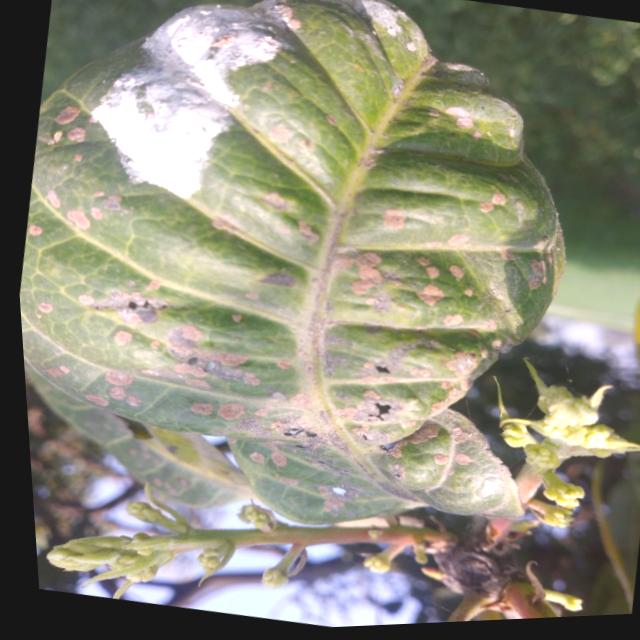Anthracnose: (330, 225, 464, 324), (152, 325, 242, 402)
Powdery Mildew: (76, 23, 236, 206)
